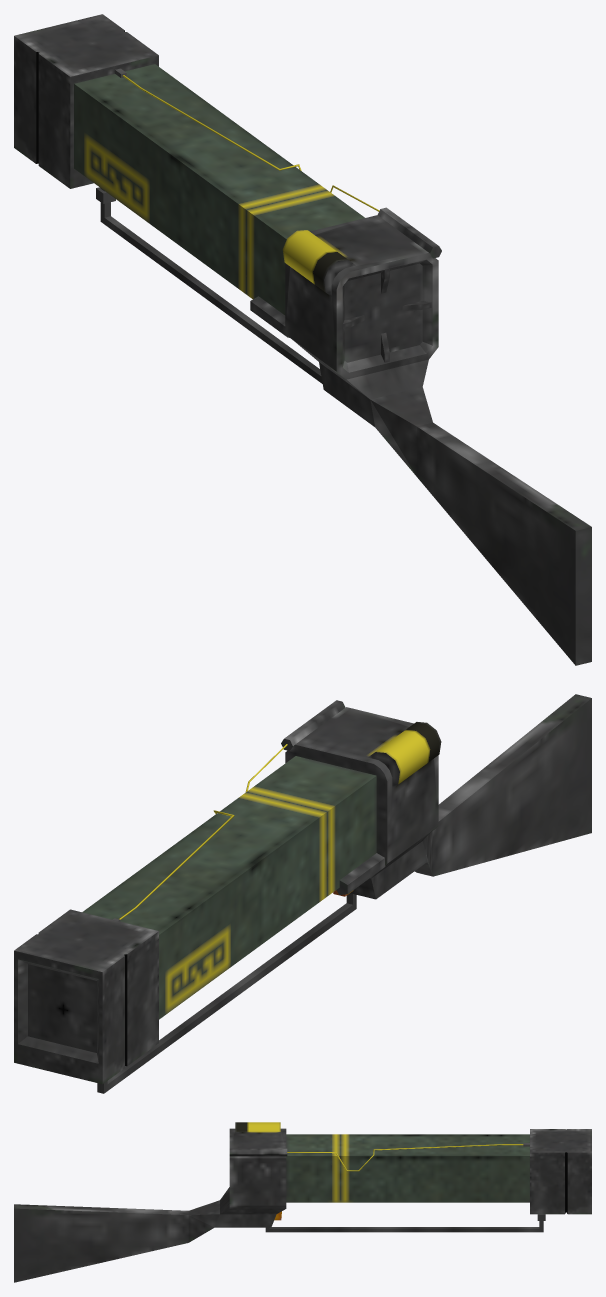
File: Lasgun.glb
3 views of the same model, one above another, from view 1: azimuth 30°, elevation 25°; view 2: azimuth 150°, elevation 25°; view 3: azimuth 270°, elevation 25° (orthographic). The views are drawn at different scales.
Parts seen in each view (by area): view 1: Box001; view 2: Box001; view 3: Box001.
Boxes of the visible parts, left/top/right/bottom form: Box001: left=14, top=14, right=591, bottom=665; Box001: left=14, top=694, right=591, bottom=1093; Box001: left=14, top=1122, right=591, bottom=1282.
Bounding box in the file's own units: 2.46 × 5.53 × 19.78.
1 material, 1 textured.
